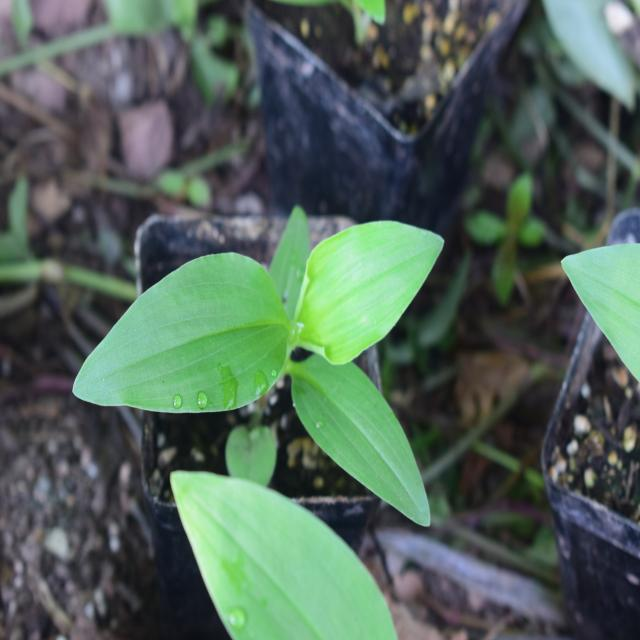Common Dayflower: (93, 202, 438, 554)
